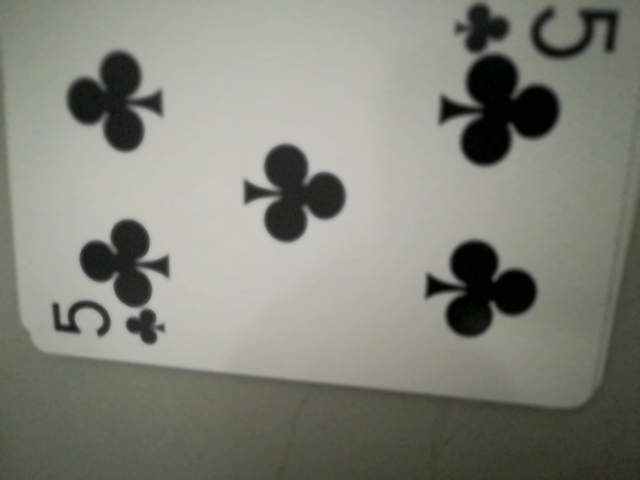mh 5: (456, 0, 620, 60), (44, 293, 175, 353)
